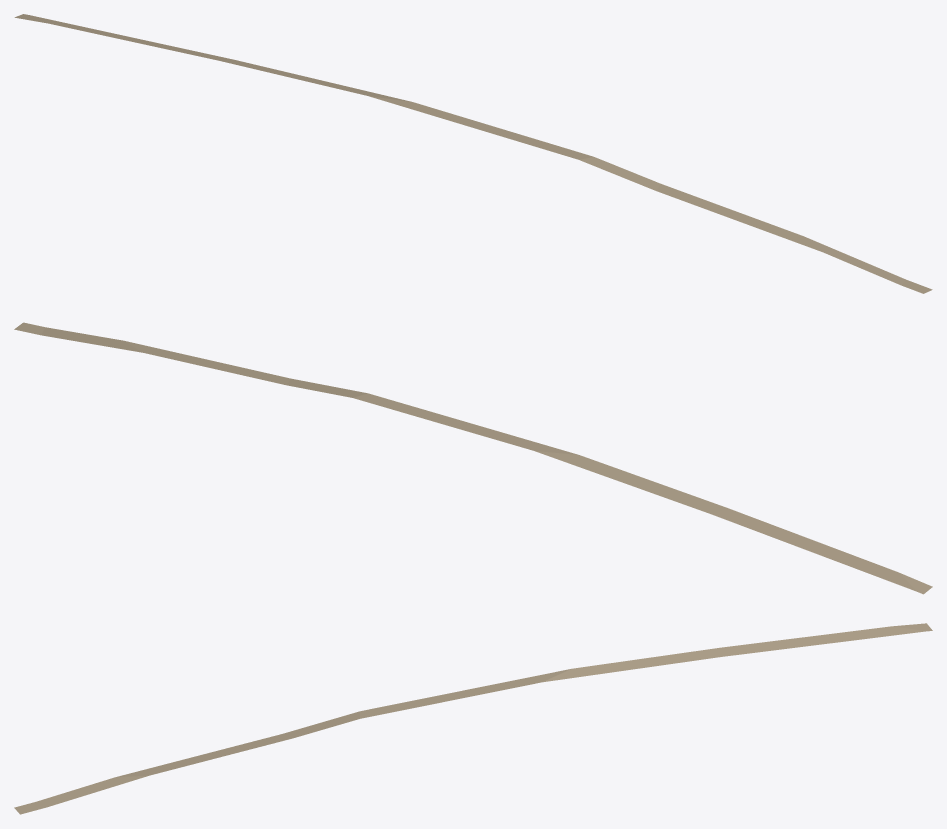
The model's file is farm_-1_2_track.glb.
3 views of the same model, one above another, from view 1: azimuth 30°, elevation 25°; view 2: azimuth 210°, elevation 25°; view 3: azimuth 270°, elevation 25° (orthographic). The views are drawn at different scales.
Visible parts, largest first — view 1: geometry_0; view 2: geometry_0; view 3: geometry_0.
Part boxes in pixels (x1,y1,x2,y2): geometry_0: [14, 14, 932, 293]; geometry_0: [14, 322, 932, 594]; geometry_0: [14, 623, 932, 814].
Bounding box in the file's own units: 96.92 × 7.56 × 204.
